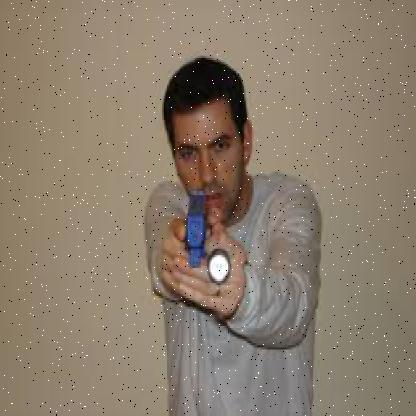pistol: (181, 187, 212, 268)
